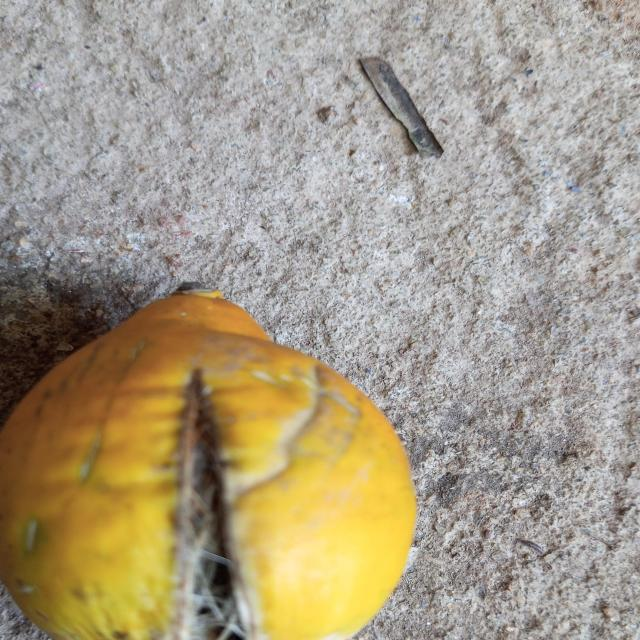damaged: (0, 290, 417, 640)
